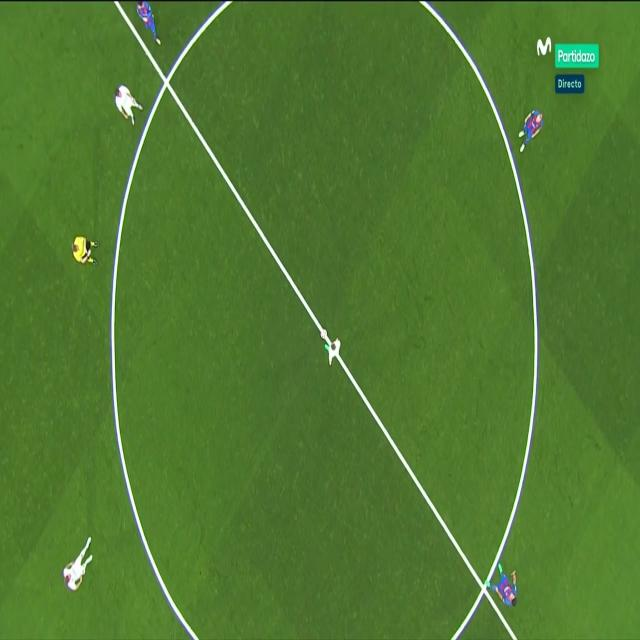Ball: (319, 325, 328, 344)
Player: (483, 560, 522, 609), (64, 534, 93, 593), (134, 0, 165, 50), (516, 106, 544, 160), (113, 83, 143, 126), (326, 333, 341, 368)
Referee: (68, 230, 102, 270)
